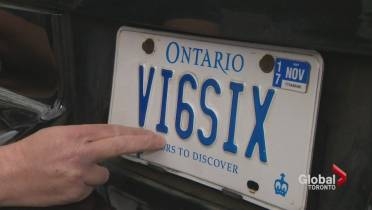license plate: (103, 23, 324, 202)
